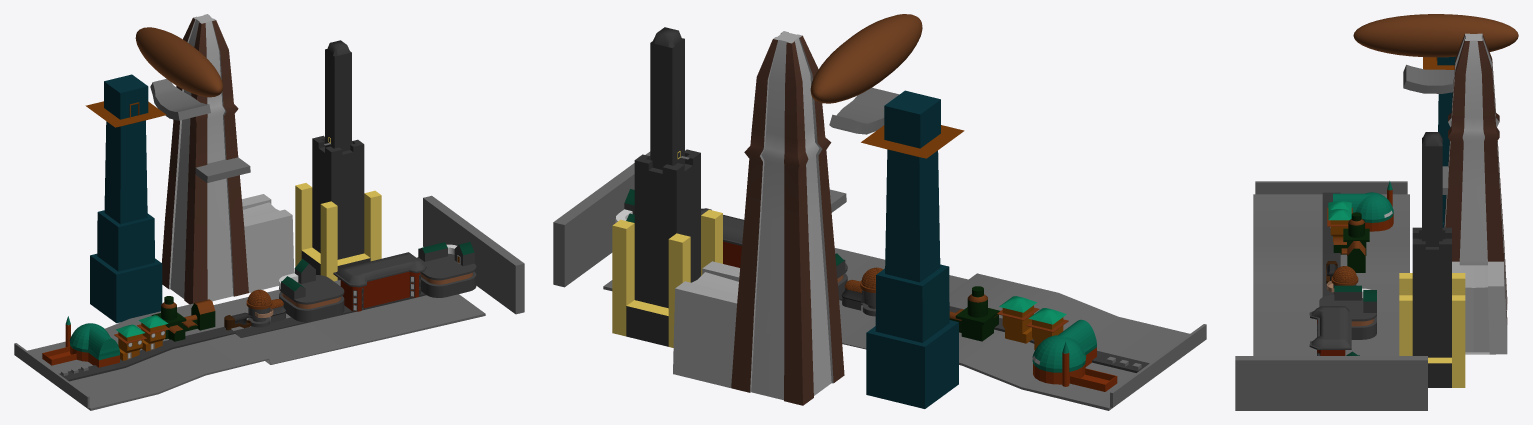
Rendered from ville fbx.fbx.
The picture shows the model from 3 angles, left to right: view 1: azimuth 30°, elevation 25°; view 2: azimuth 150°, elevation 25°; view 3: azimuth 270°, elevation 25°; orthographic projection. The views are drawn at different scales.
Visible parts, largest first — view 1: gratte_ciel_2, route_base, gratte_ciel_3, gratte_ciel_1, mur1, appart, pSphere8, plateau, plateau1, route, eglise, batisse (+6 smaller); view 2: gratte_ciel_2, gratte_ciel_3, gratte_ciel_1, route_base, pSphere8, mur1, eglise, pCube11, mur, batisse, pCylinder4, polySurface4 (+3 smaller); view 3: route_base, gratte_ciel_2, mur1, gratte_ciel_1, pSphere8, mur, plateau, appart, eglise, batisse, gratte_ciel_3, pCube11 (+3 smaller).
Part boxes in pixels (box(x1,y1,x2,y2)): gratte_ciel_2: box(162, 14, 294, 304); route_base: box(27, 280, 485, 410); gratte_ciel_3: box(85, 74, 166, 323); gratte_ciel_1: box(295, 40, 381, 281); mur1: box(423, 195, 524, 314); appart: box(333, 252, 426, 311); pSphere8: box(135, 27, 222, 97); plateau: box(279, 259, 344, 322); plateau1: box(417, 242, 476, 297); route: box(59, 291, 426, 381); eglise: box(42, 316, 119, 367); batisse: box(151, 296, 215, 341); gratte_ciel_2: box(673, 31, 844, 405); gratte_ciel_3: box(861, 90, 964, 408); gratte_ciel_1: box(612, 27, 722, 347); route_base: box(603, 248, 1189, 410); pSphere8: box(810, 14, 922, 103); mur1: box(553, 151, 650, 287); eglise: box(1032, 319, 1117, 391); pCube11: box(829, 87, 899, 134); mur: box(1110, 324, 1206, 407); batisse: box(949, 286, 999, 341); pCylinder4: box(997, 296, 1039, 343); polySurface4: box(841, 267, 883, 316); route_base: box(1253, 194, 1409, 355); gratte_ciel_2: box(1444, 33, 1507, 354); mur1: box(1235, 356, 1427, 410); gratte_ciel_1: box(1399, 132, 1465, 387); pSphere8: box(1353, 14, 1518, 57); mur: box(1255, 181, 1407, 194); plateau: box(1319, 285, 1376, 339); appart: box(1309, 306, 1351, 355); eglise: box(1333, 181, 1393, 231); batisse: box(1333, 212, 1369, 272); gratte_ciel_3: box(1423, 56, 1455, 227); pCube11: box(1403, 64, 1454, 93).
Size of the model in its own units: 196 by 118 by 108.
